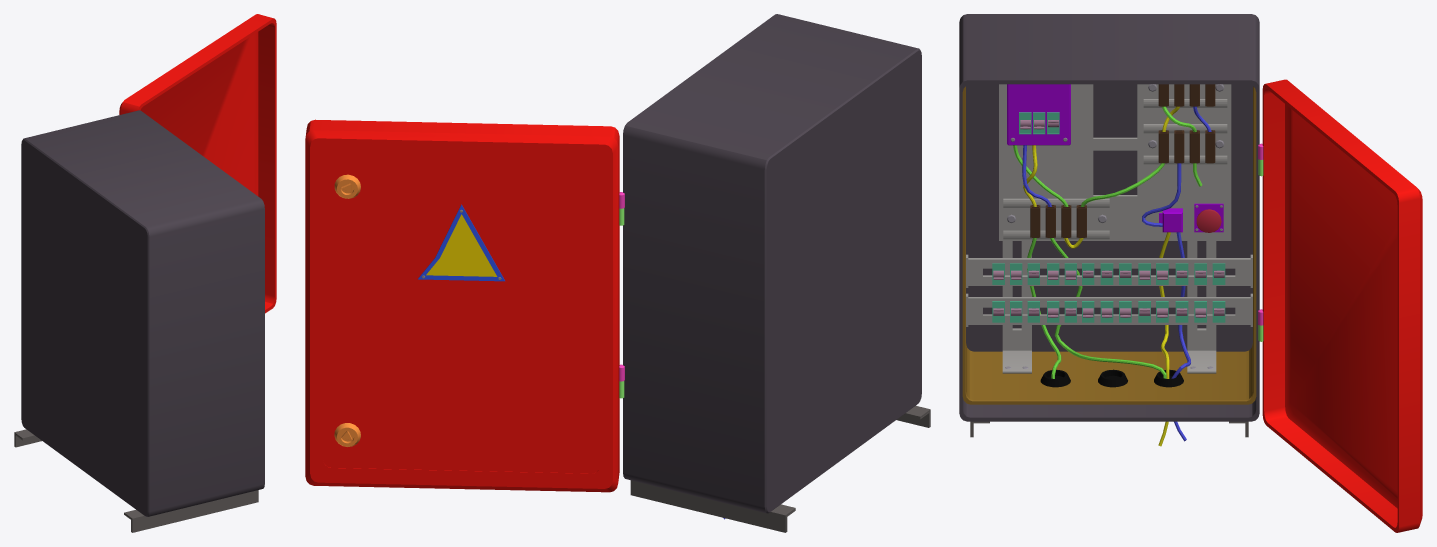
File: fusebox.dae
The picture shows the model from 3 angles, left to right: view 1: azimuth 30°, elevation 25°; view 2: azimuth 150°, elevation 25°; view 3: azimuth 270°, elevation 25°; orthographic projection. The views are drawn at different scales.
Parts seen in each view (by area): view 1: Fuse box_main, fuse box_door; view 2: Fuse box_main, fuse box_door; view 3: Fuse box_main, fuse box_door.
Part boxes in pixels (left/top/right/bottom): Fuse box_main: left=14, top=110, right=264, bottom=532; fuse box_door: left=119, top=14, right=276, bottom=313; Fuse box_main: left=623, top=14, right=930, bottom=532; fuse box_door: left=305, top=119, right=624, bottom=492; Fuse box_main: left=959, top=14, right=1259, bottom=446; fuse box_door: left=1258, top=79, right=1422, bottom=532.
Size of the model in its own units: 57.68 by 56.9 by 60.26.
